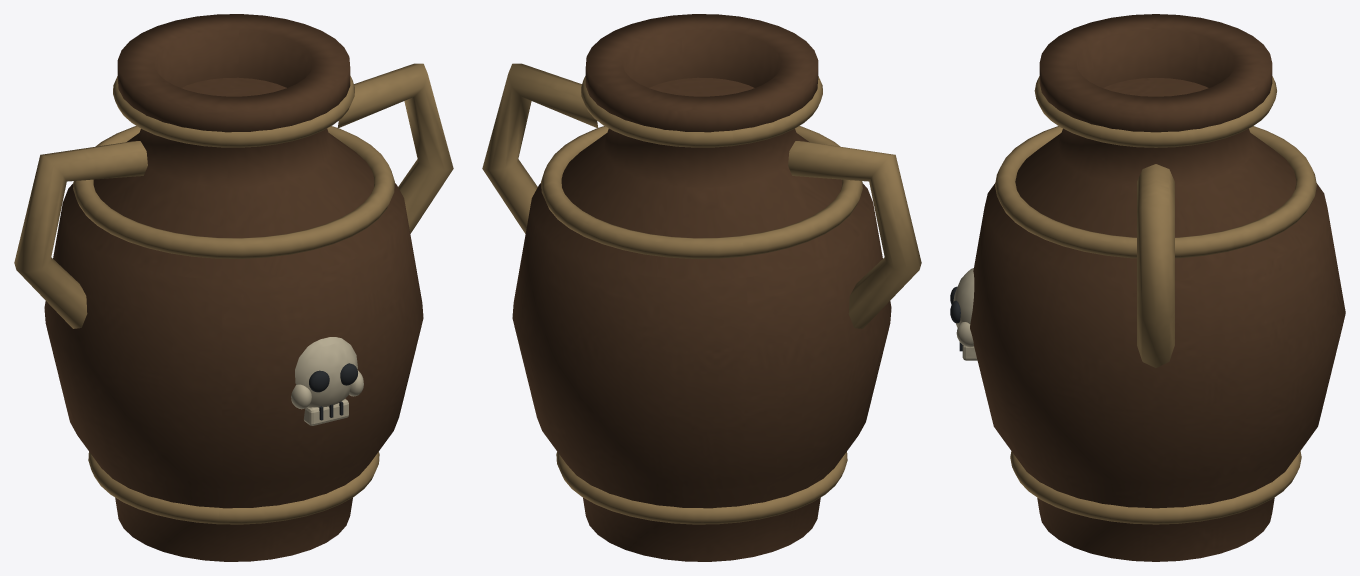
The model's file is breakable_urn.glb.
3 renders of one model, left to right at view 1: azimuth 30°, elevation 25°; view 2: azimuth 150°, elevation 25°; view 3: azimuth 270°, elevation 25°, orthographic.
Visible parts, largest first — view 1: breakable_urn; view 2: breakable_urn; view 3: breakable_urn.
Boxes of the visible parts, bbox=[...] form: breakable_urn: bbox=[14, 14, 453, 561]; breakable_urn: bbox=[482, 14, 921, 561]; breakable_urn: bbox=[950, 14, 1345, 561].
Size of the model in its own units: 0.8204 by 0.81 by 0.646.
4 materials, 4 textured.
